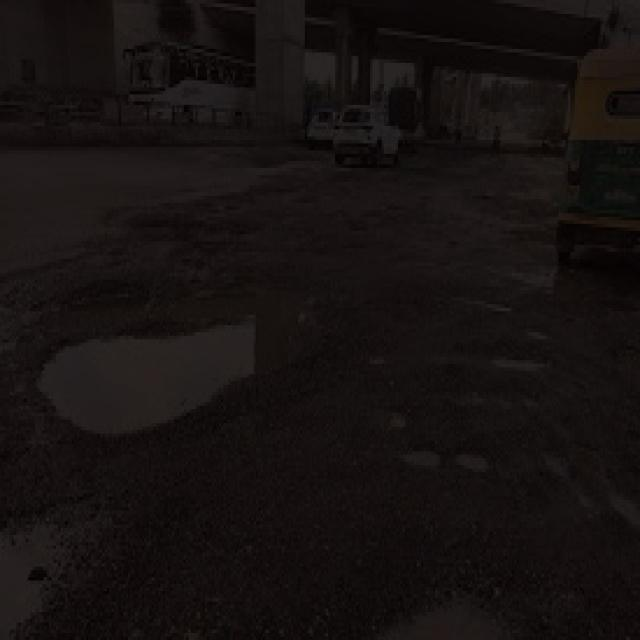Pothole: (11, 314, 344, 434), (0, 466, 111, 640), (362, 532, 517, 640), (571, 437, 640, 549), (133, 206, 274, 259), (481, 346, 552, 387), (398, 434, 449, 471), (460, 437, 489, 481)
